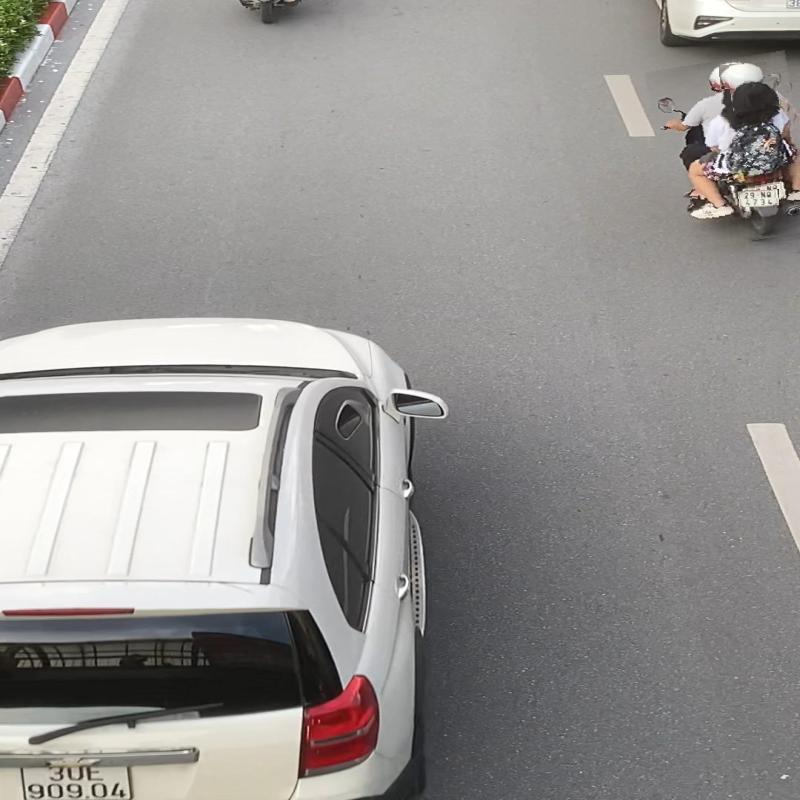helmet: (720, 63, 768, 89)
licenseplate: (738, 190, 779, 207)
motorcyclist: (651, 55, 800, 247)
nohelmet: (730, 79, 779, 112)
